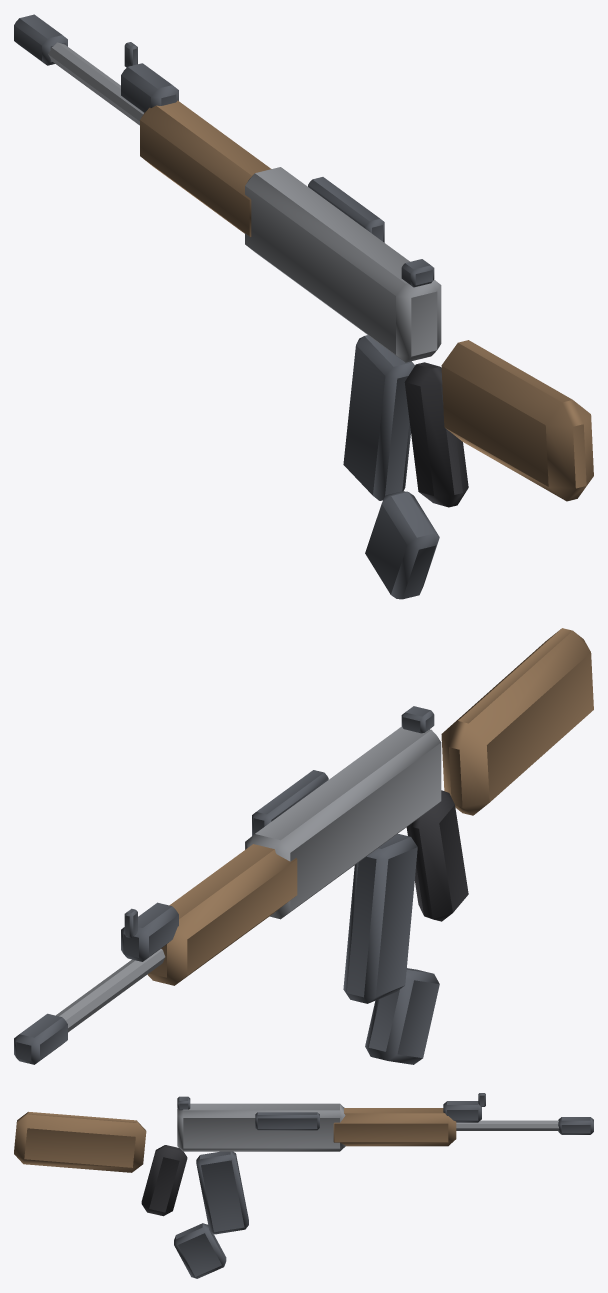
File: rifle.glb
3 renders of one model, top to bottom at view 1: azimuth 30°, elevation 25°; view 2: azimuth 150°, elevation 25°; view 3: azimuth 270°, elevation 25°, orthographic. The views are drawn at different scales.
Visible parts, largest first — view 1: body, mag, bolt; view 2: body, mag, bolt; view 3: body, mag, bolt.
Part boxes in pixels (box(x1,y1,x2,y2)): body: box(14, 14, 593, 599); mag: box(343, 335, 414, 500); bolt: box(308, 177, 384, 242); body: box(14, 628, 593, 1064); mag: box(343, 834, 417, 1003); bolt: box(252, 770, 328, 835); body: box(14, 1093, 593, 1278); mag: box(196, 1151, 248, 1234); bolt: box(255, 1112, 319, 1130).
Size of the model in its own units: 0.057 by 0.3118 by 0.8944.
